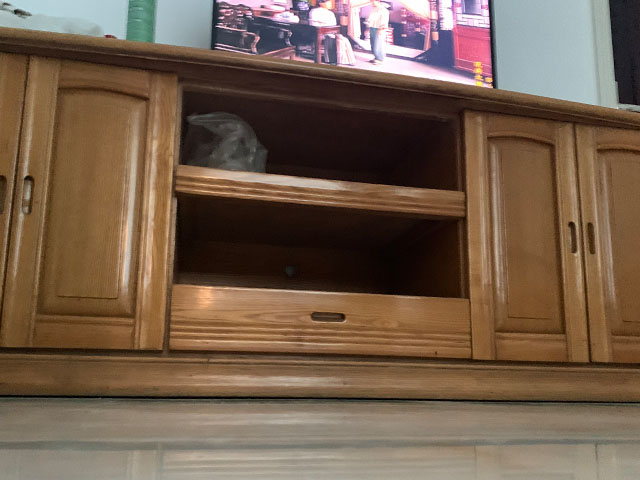cabinet: (1, 25, 640, 405)
